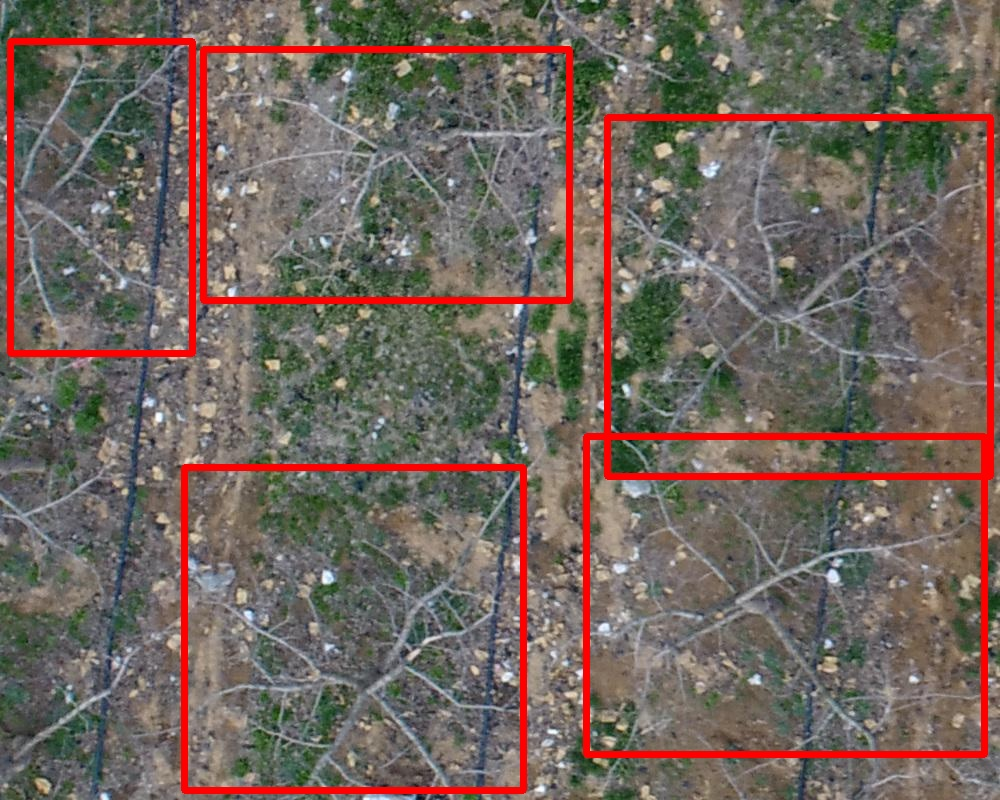apple: (607, 117, 990, 476), (586, 436, 984, 754), (184, 467, 523, 790), (203, 49, 569, 300), (10, 41, 192, 353)
